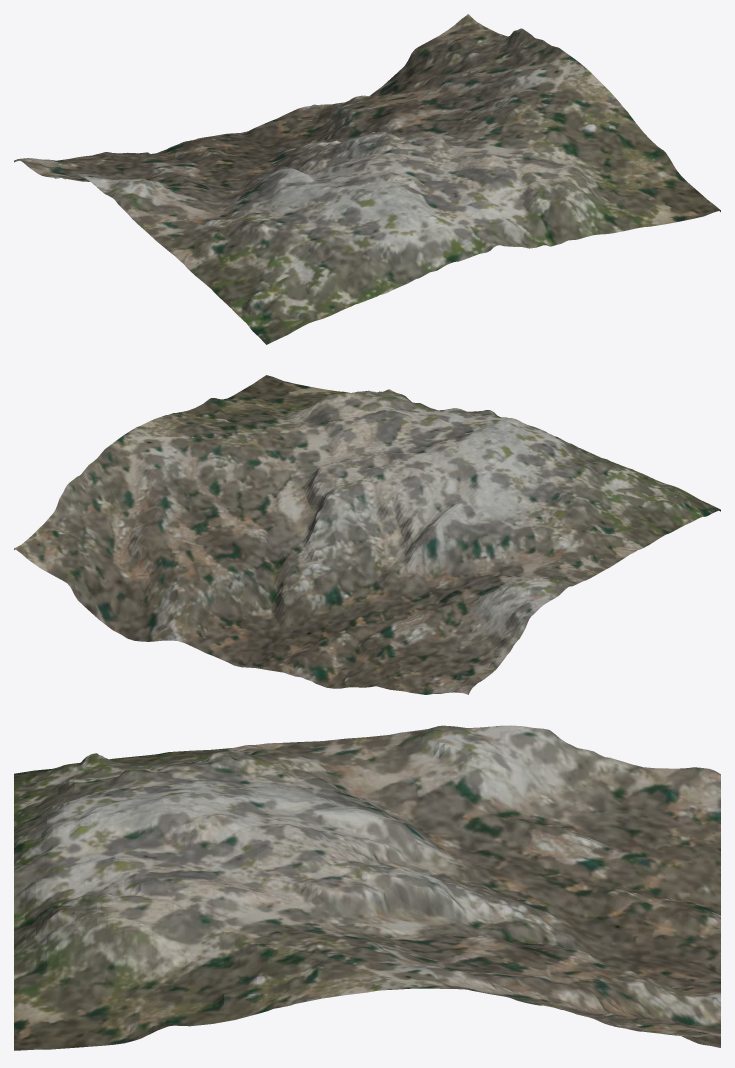
3 renders of one model, top to bottom at view 1: azimuth 30°, elevation 25°; view 2: azimuth 150°, elevation 25°; view 3: azimuth 270°, elevation 25°, orthographic. The views are drawn at different scales.
Size of the model in its own units: 250 by 51.65 by 241.
Materials: 1 (1 with a texture image).
